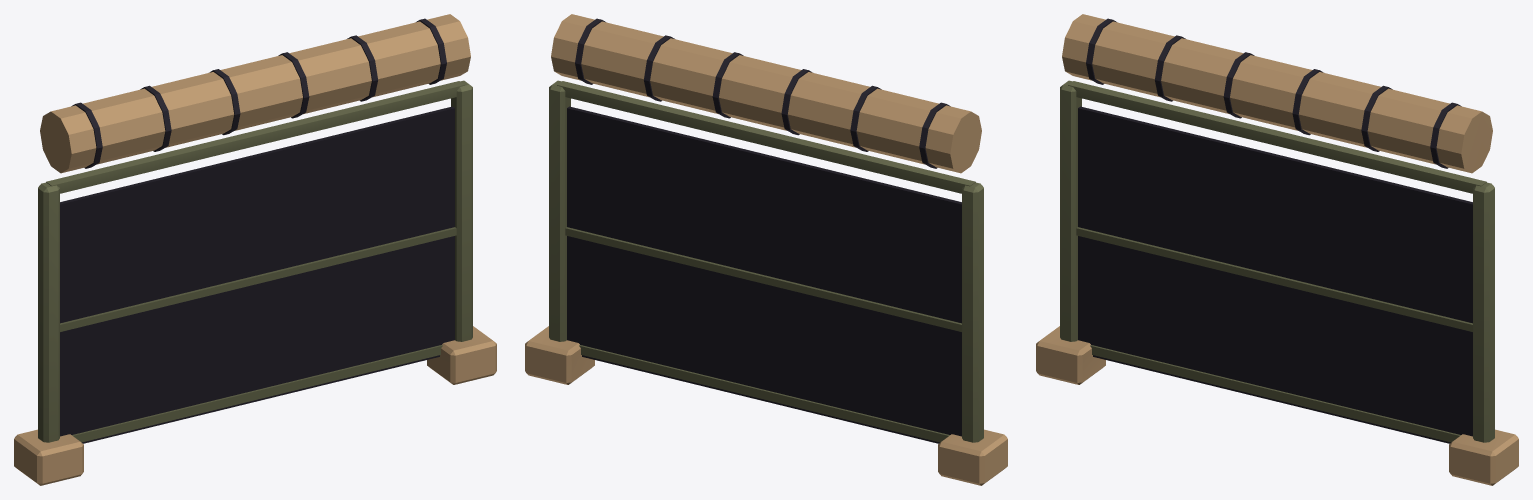
The model's file is prop.cure-mil-fence.glb.
3 renders of one model, left to right at view 1: azimuth 30°, elevation 25°; view 2: azimuth 150°, elevation 25°; view 3: azimuth 330°, elevation 25°, orthographic.
Visible parts, largest first — view 1: body; view 2: body; view 3: body.
Boxes of the visible parts, bbox=[...] form: body: bbox=[14, 14, 496, 485]; body: bbox=[525, 14, 1007, 485]; body: bbox=[1036, 14, 1518, 485].
Bounding box in the file's own units: 3.34 × 2.48 × 0.42.
